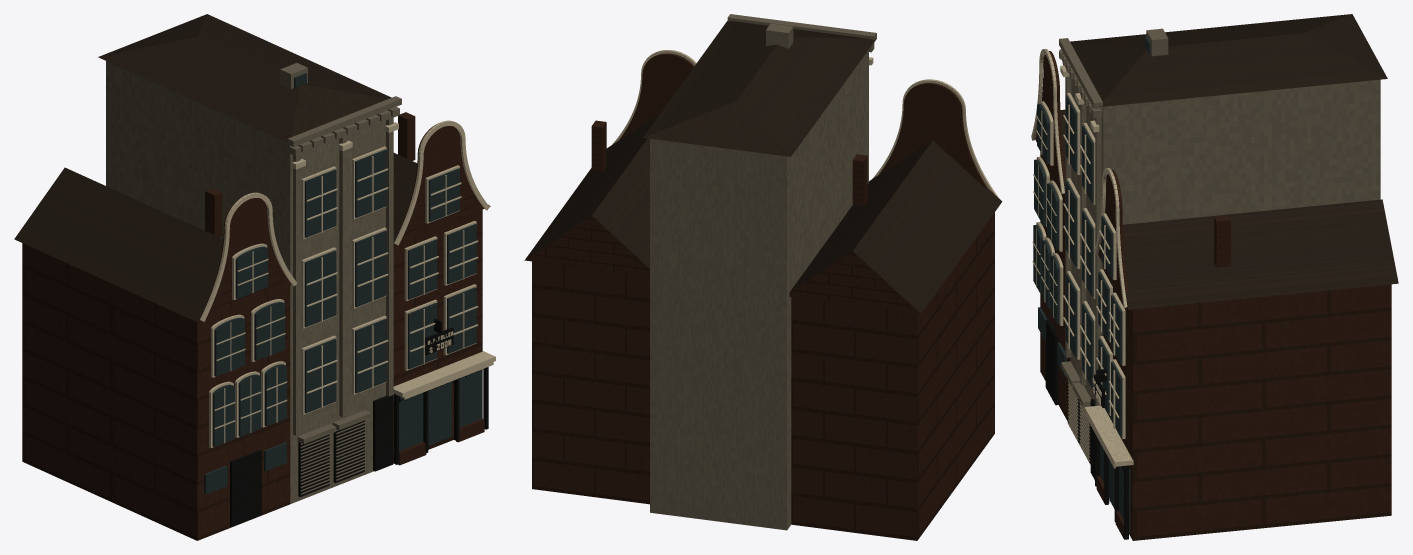
3 views of the same model, side by side, from view 1: azimuth 30°, elevation 25°; view 2: azimuth 150°, elevation 25°; view 3: azimuth 270°, elevation 25° (orthographic). The views are drawn at different scales.
Parts seen in each view (by area): view 1: kipstraat33-37-0, kipstraat33-37-2, kipstraat33-37-1, kipstraat33-37-4, kipstraat33-37-3, kipstraat33-37-5; view 2: kipstraat33-37-0, kipstraat33-37-2, kipstraat33-37-1, kipstraat33-37-3; view 3: kipstraat33-37-0, kipstraat33-37-1, kipstraat33-37-2, kipstraat33-37-4, kipstraat33-37-3, kipstraat33-37-5.
Part boxes in pixels (x1,y1,x2,y2): kipstraat33-37-0: [22, 112, 490, 540]; kipstraat33-37-2: [106, 61, 401, 503]; kipstraat33-37-1: [14, 14, 425, 321]; kipstraat33-37-4: [204, 73, 482, 494]; kipstraat33-37-3: [200, 120, 495, 447]; kipstraat33-37-5: [230, 318, 488, 526]; kipstraat33-37-0: [524, 53, 994, 540]; kipstraat33-37-2: [650, 14, 876, 530]; kipstraat33-37-1: [525, 21, 1002, 313]; kipstraat33-37-3: [612, 50, 999, 198]; kipstraat33-37-0: [1035, 51, 1391, 540]; kipstraat33-37-1: [1050, 14, 1398, 309]; kipstraat33-37-2: [1059, 28, 1380, 461]; kipstraat33-37-4: [1033, 36, 1150, 532]; kipstraat33-37-3: [1031, 49, 1133, 468]; kipstraat33-37-5: [1045, 319, 1128, 539].
Size of the model in its own units: 19.72 by 19 by 15.23.
Materials: 6 (6 with a texture image).
